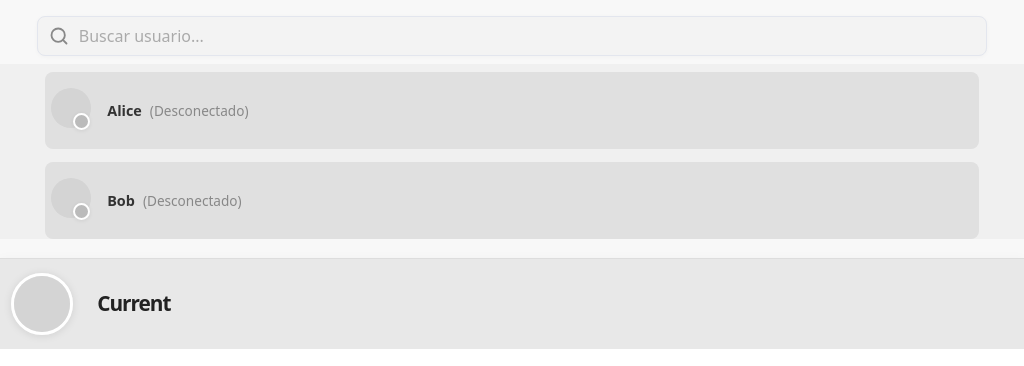
Test: Contacts component › filters contacts by search
This screenshot has width=1024, height=366.
Type "bob" into the field with placeholder "Buscar usuario..." at [524, 36], box 77,24 -> 970,48
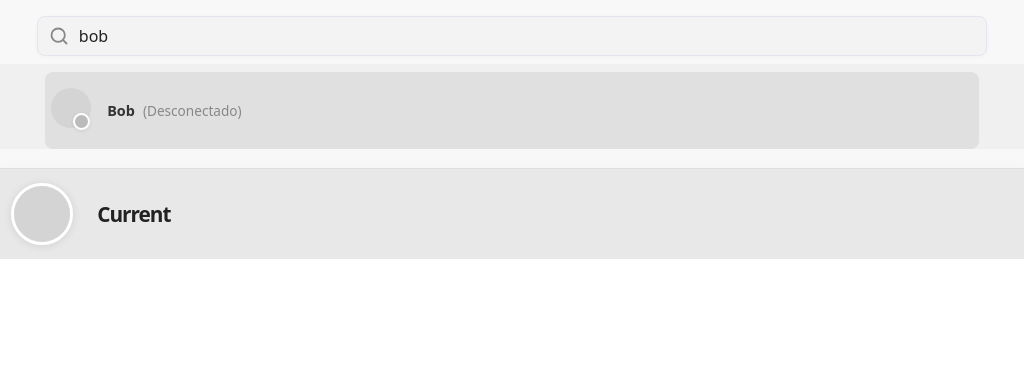
Expected: the heading "Bob (Desconectado)" is shown, 107,101 -> 242,120
Expected: the heading "Alice" is gone
